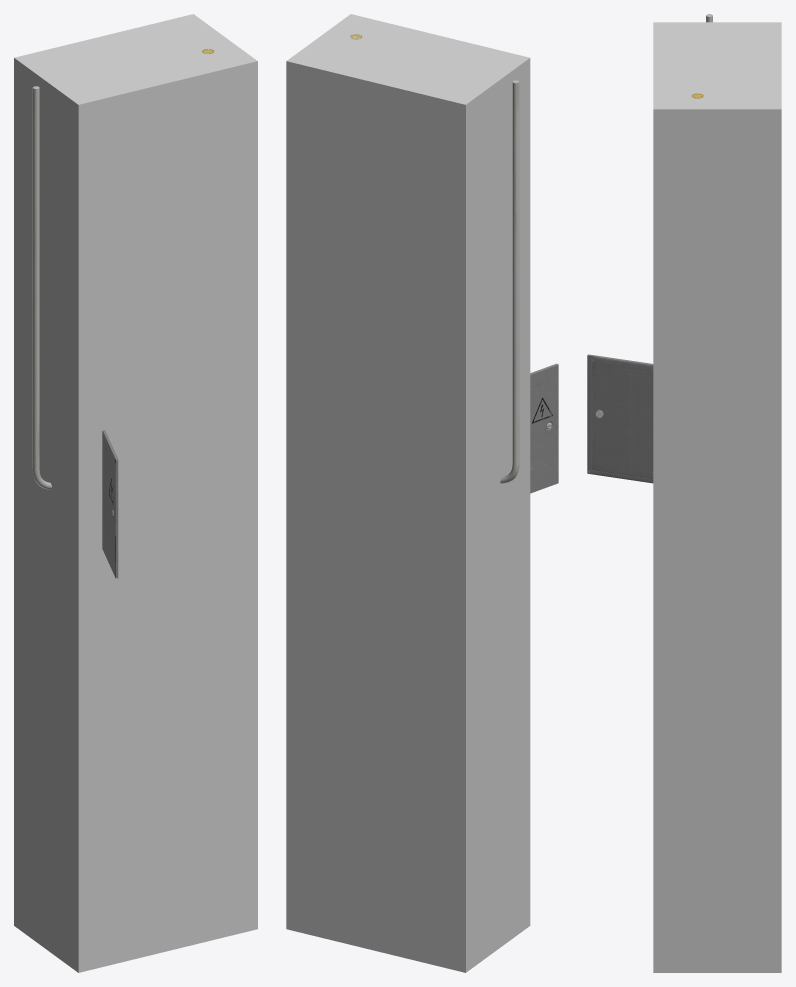
File: pr_gasmeter.gltf
The picture shows the model from 3 angles, left to right: view 1: azimuth 30°, elevation 25°; view 2: azimuth 150°, elevation 25°; view 3: azimuth 270°, elevation 25°; orthographic projection.
Parts seen in each view (by area): view 1: pr_gasmeter_COL, pr_gasmeter_LOD0; view 2: pr_gasmeter_COL, pr_gasmeter_LOD0; view 3: pr_gasmeter_COL, pr_gasmeter_LOD0.
Part boxes in pixels (x1=…): pr_gasmeter_COL: x1=14, y1=14, x2=257, y2=972; pr_gasmeter_LOD0: x1=32, y1=49, x2=214, y2=578; pr_gasmeter_COL: x1=286, y1=14, x2=530, y2=972; pr_gasmeter_LOD0: x1=350, y1=34, x2=558, y2=493; pr_gasmeter_COL: x1=653, y1=22, x2=781, y2=972; pr_gasmeter_LOD0: x1=587, y1=14, x2=712, y2=483.
Size of what is drawn, in the model's own units: 0.5685 by 2.4 by 0.489.
1 material, 1 textured.
